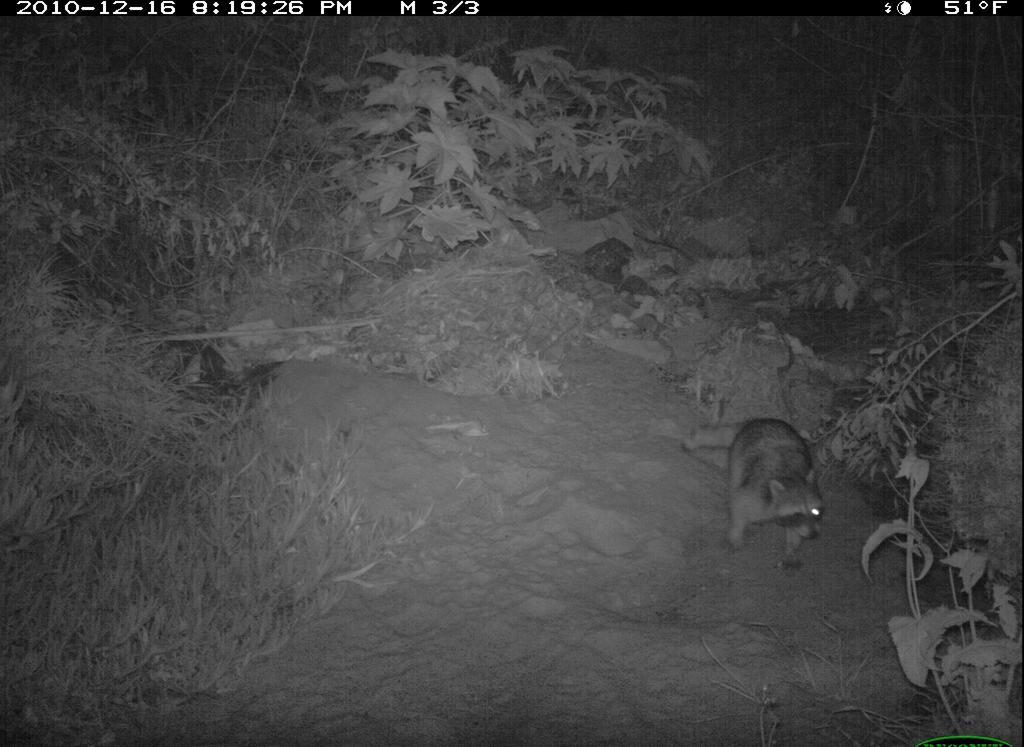raccoon: (678, 393, 854, 593)
